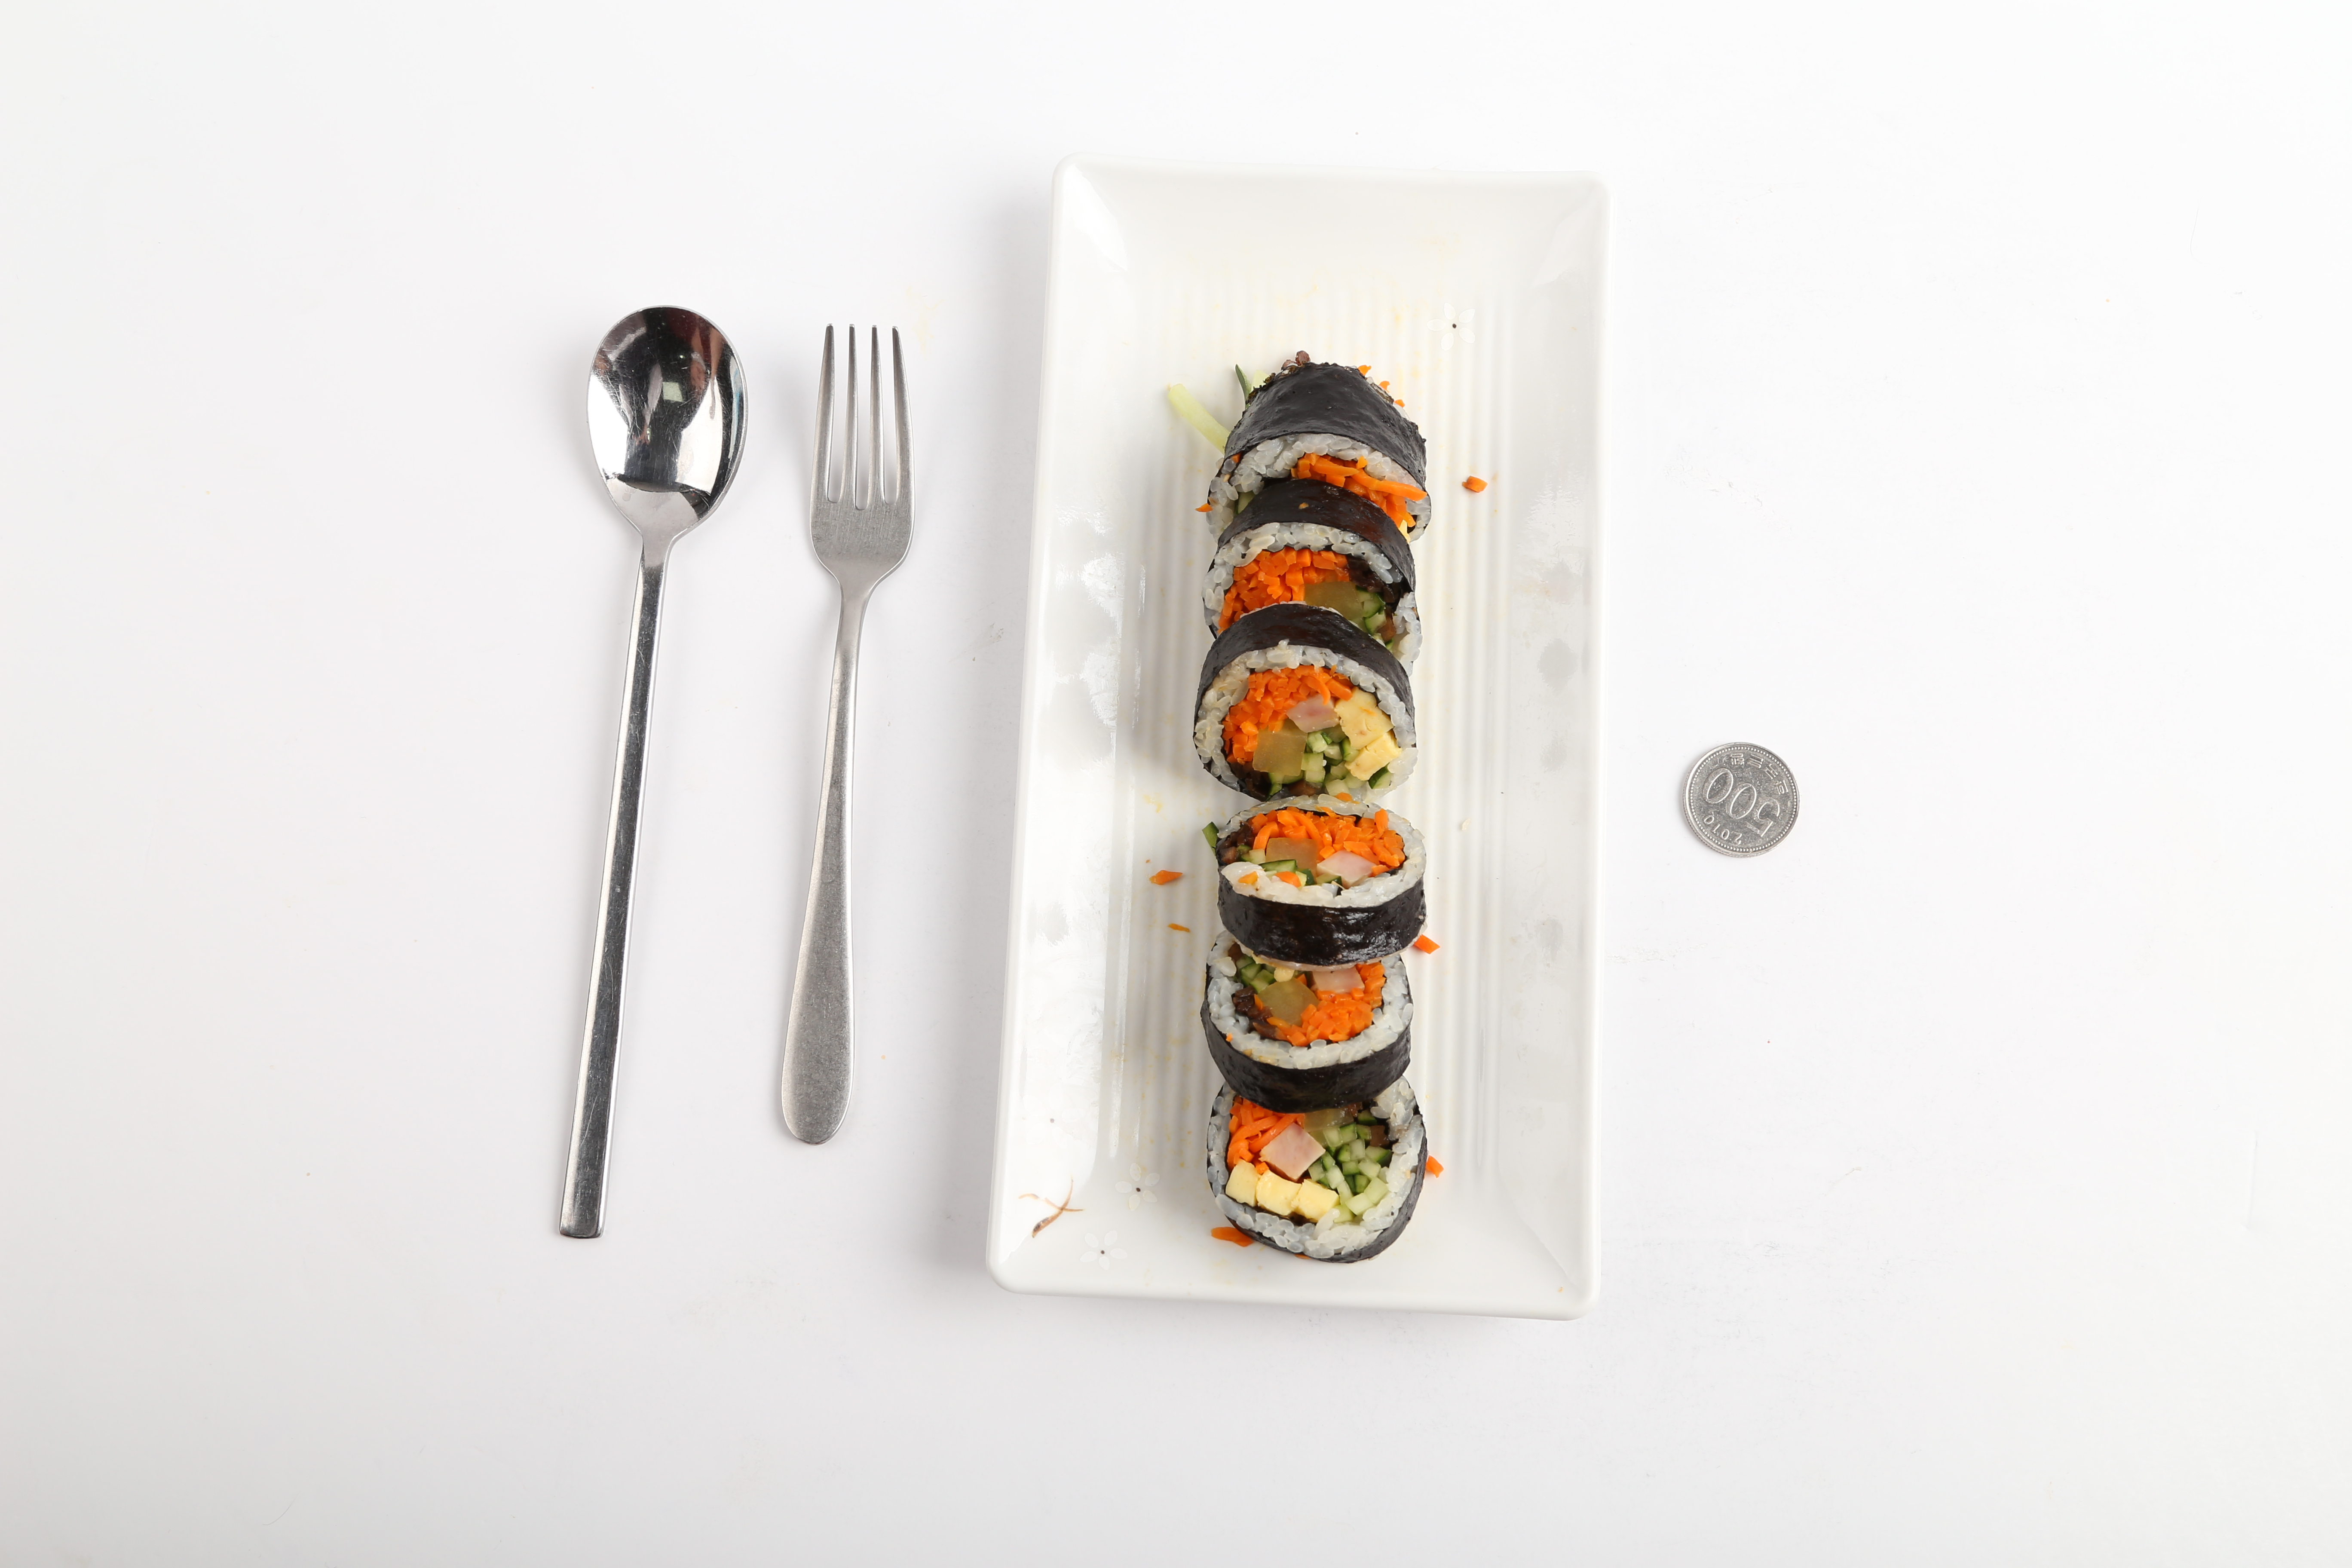dish: (987, 149, 1620, 1321)
ref_coin: (1668, 737, 1804, 863)
ref_fork: (808, 320, 919, 621)
ref_spoon: (579, 296, 752, 598)
김밥: (1186, 353, 1428, 1265)
